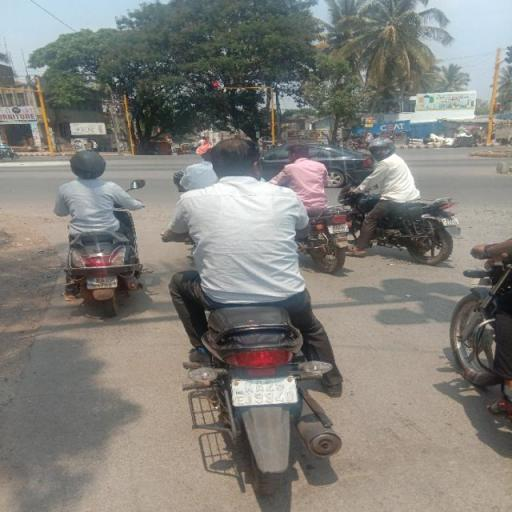bike: (150, 134, 368, 484)
numberplate: (230, 375, 297, 407)
withouthelmet: (212, 140, 260, 178)
